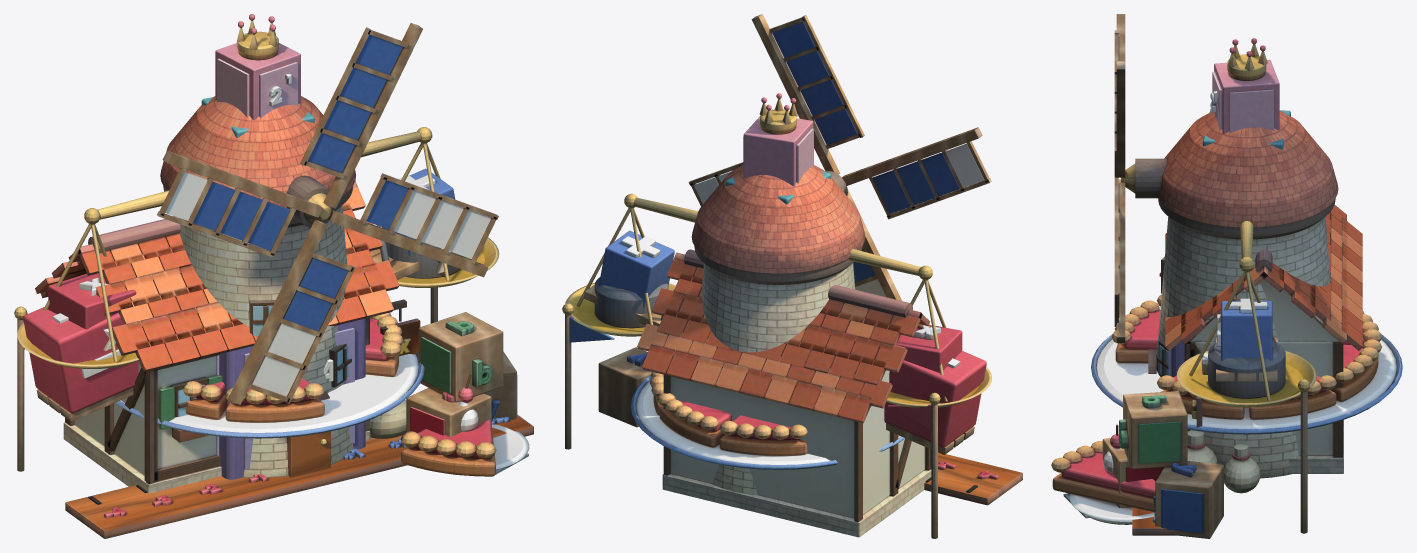
Rendered from strip-nombres.glb.
The picture shows the model from 3 angles, left to right: view 1: azimuth 30°, elevation 25°; view 2: azimuth 150°, elevation 25°; view 3: azimuth 270°, elevation 25°; orthographic projection. The views are drawn at different scales.
Visible parts, largest first — view 1: moulin-fractions, atelier-lettres, balance-signes, tartes-fractions, tour-puissances, balance-equations; view 2: atelier-lettres, moulin-fractions, balance-signes, tartes-fractions, balance-equations, tour-puissances; view 3: moulin-fractions, atelier-lettres, tartes-fractions, balance-equations, tour-puissances, balance-signes.
Boxes of the visible parts, left/top/right/bottom form: moulin-fractions: left=157, top=23, right=498, bottom=477; atelier-lettres: left=35, top=180, right=517, bottom=493; balance-signes: left=14, top=168, right=533, bottom=538; tartes-fractions: left=115, top=312, right=529, bottom=476; tour-puissances: left=201, top=14, right=365, bottom=479; balance-equations: left=17, top=127, right=499, bottom=368; atelier-lettres: left=598, top=249, right=935, bottom=537; moulin-fractions: left=688, top=14, right=991, bottom=506; balance-signes: left=562, top=230, right=1022, bottom=538; tartes-fractions: left=630, top=372, right=905, bottom=469; balance-equations: left=565, top=193, right=991, bottom=407; tour-puissances: left=725, top=93, right=831, bottom=204; moulin-fractions: left=1114, top=14, right=1338, bottom=493; atelier-lettres: left=1102, top=205, right=1362, bottom=538; tartes-fractions: left=1051, top=295, right=1402, bottom=524; balance-equations: left=1176, top=221, right=1316, bottom=407; tour-puissances: left=1168, top=38, right=1322, bottom=376; balance-signes: left=1132, top=298, right=1310, bottom=535.
Bounding box in the file's own units: 2 × 1.9 × 1.41.
Materials: 6 (6 with a texture image).
